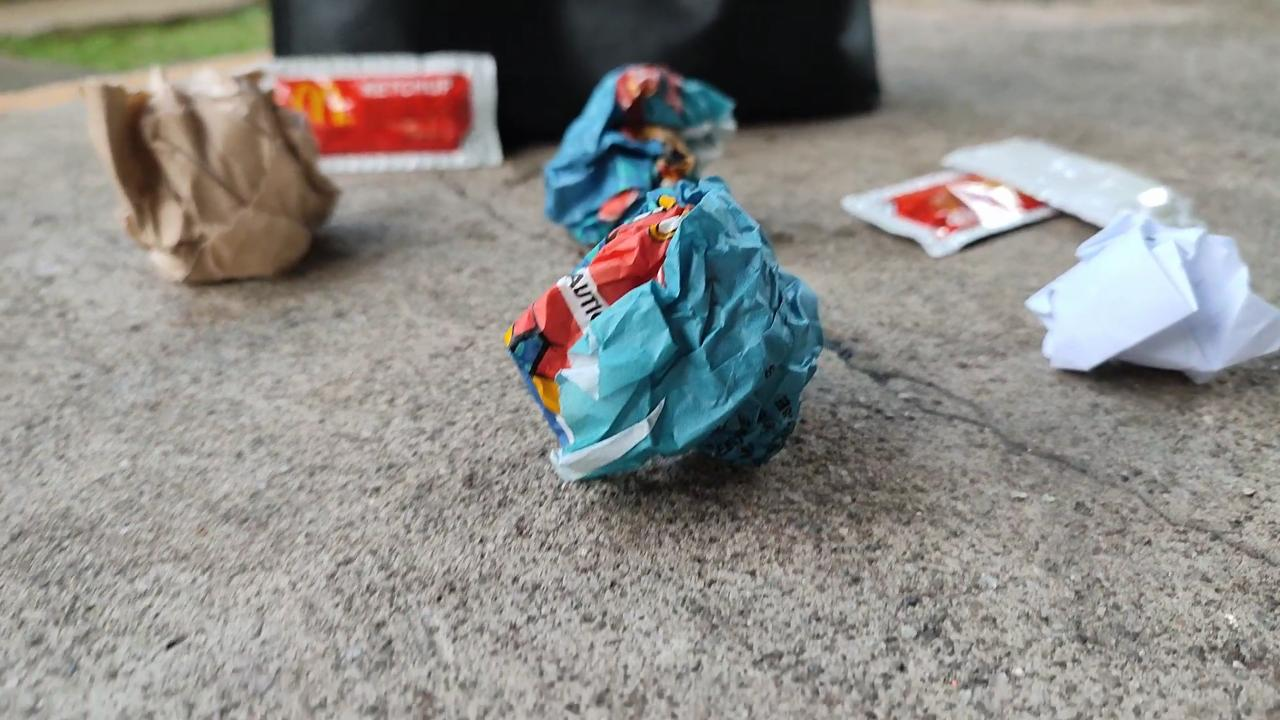paper: (505, 178, 822, 480), (86, 70, 337, 282), (1027, 212, 1279, 377), (544, 64, 734, 246)
